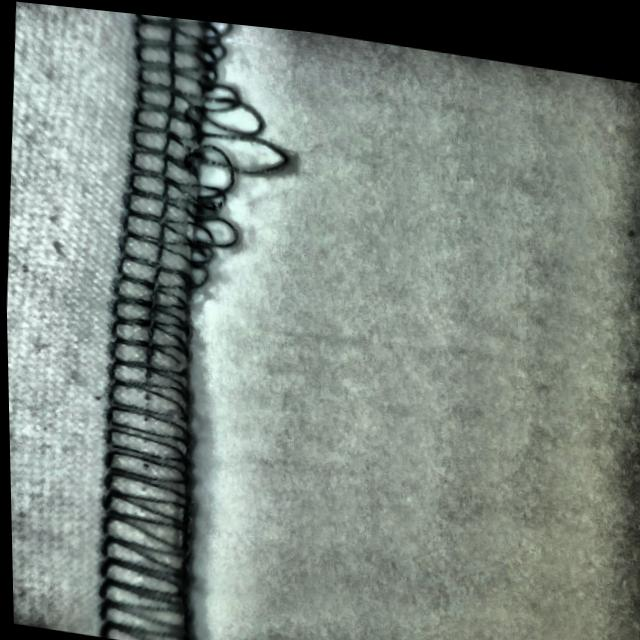Stitch: (106, 9, 298, 300)
